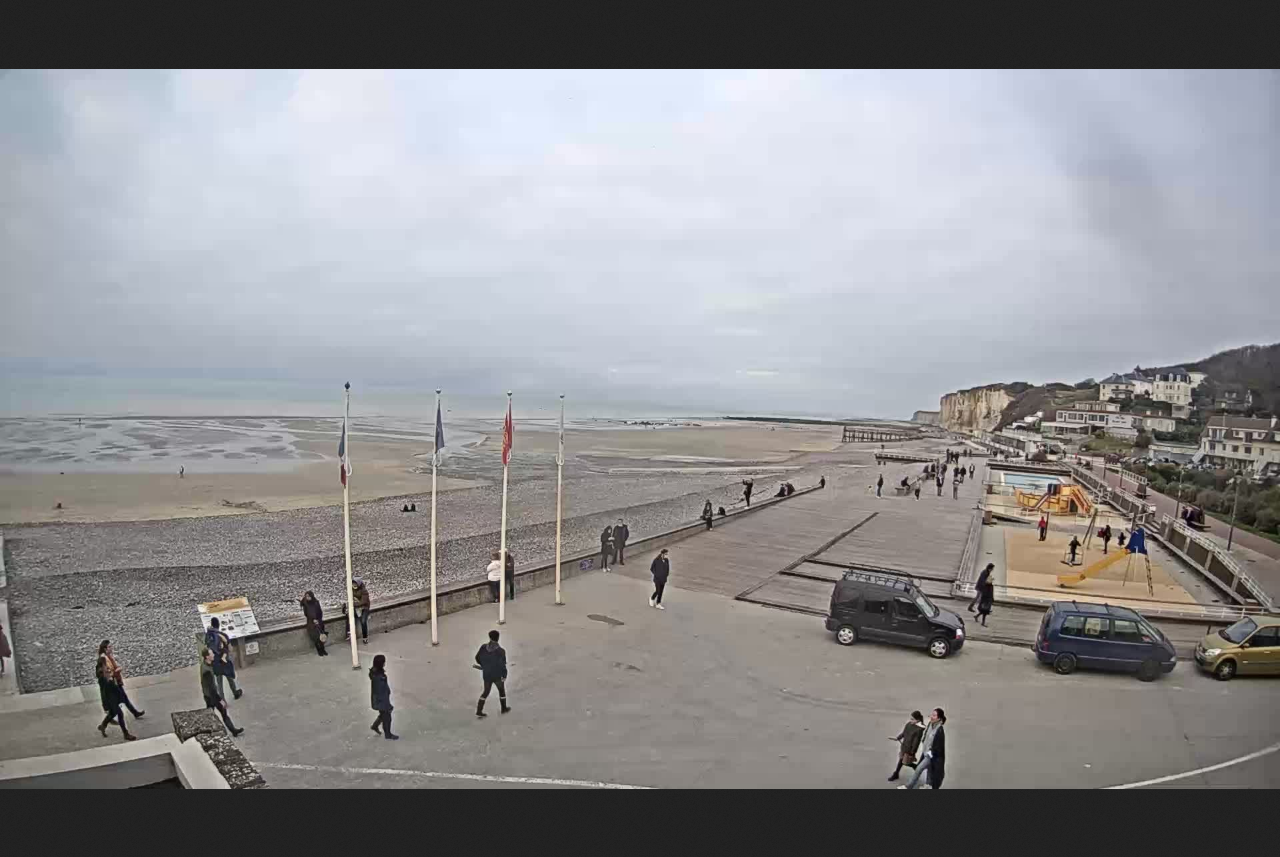no: (334, 418, 355, 488), (496, 406, 519, 465), (430, 405, 448, 465)
